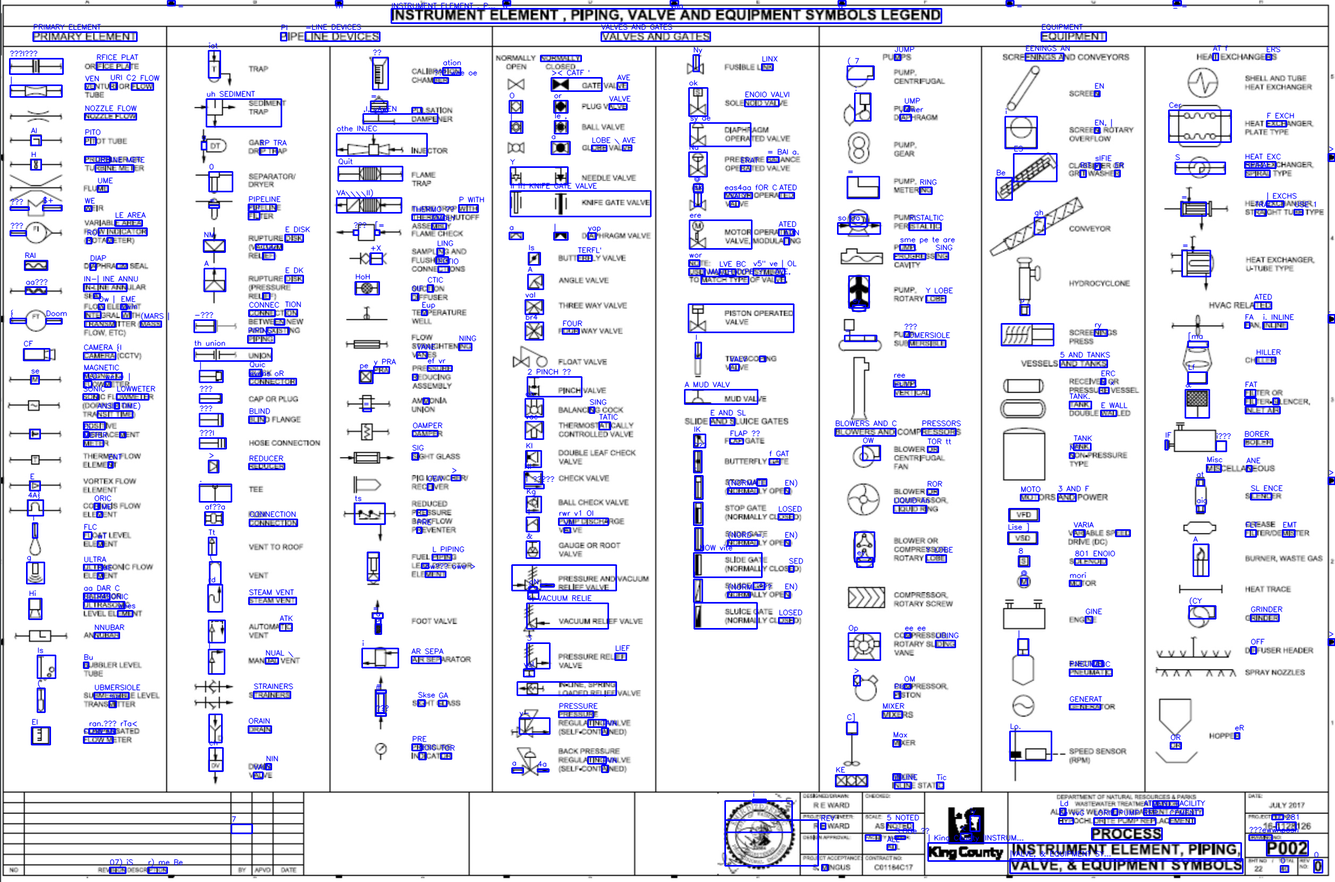Bomba: (838, 318, 884, 354), (835, 207, 883, 238), (849, 355, 871, 422), (840, 91, 876, 129), (847, 273, 872, 313), (838, 247, 886, 267), (846, 130, 872, 166), (846, 175, 881, 200), (845, 64, 876, 89)
Compressor: (844, 480, 882, 516), (846, 630, 881, 661), (852, 529, 877, 568), (848, 587, 886, 609), (852, 674, 880, 701)
HVAC: (1163, 421, 1229, 455), (1181, 340, 1214, 387), (1171, 312, 1226, 337), (1185, 389, 1209, 418)
Misturador: (841, 719, 862, 767), (833, 774, 868, 787)
Motor: (1000, 598, 1047, 630), (1016, 574, 1032, 589)
Outro: (988, 194, 1085, 259), (991, 150, 1060, 203), (1157, 635, 1233, 662), (1006, 64, 1041, 112), (7, 174, 63, 203), (1016, 255, 1042, 317), (8, 220, 65, 247), (1154, 663, 1239, 681), (999, 321, 1057, 347), (9, 306, 66, 332), (1158, 696, 1193, 738), (8, 54, 64, 78), (8, 496, 65, 519), (1003, 114, 1039, 149), (7, 108, 66, 126), (7, 198, 63, 216), (7, 475, 63, 493), (14, 628, 69, 646), (10, 83, 66, 100), (7, 156, 65, 172), (7, 426, 63, 442), (8, 133, 64, 148), (7, 282, 63, 297), (7, 371, 63, 386), (6, 397, 62, 412), (1153, 749, 1201, 766), (1185, 605, 1217, 629), (34, 651, 57, 684), (6, 452, 63, 465), (1192, 473, 1209, 516), (1191, 542, 1211, 576), (1177, 583, 1225, 597), (24, 561, 47, 586), (1180, 521, 1218, 536), (22, 345, 57, 361), (28, 522, 43, 557), (31, 725, 53, 746), (28, 597, 43, 621), (22, 260, 49, 270), (36, 686, 46, 713)
SistemadePotência: (1007, 725, 1068, 784), (1011, 637, 1036, 689), (1011, 693, 1036, 717), (1006, 506, 1040, 523), (1006, 530, 1040, 546), (1017, 555, 1030, 568)
Tanque: (1001, 426, 1047, 484), (998, 398, 1047, 420)
TrocadordeCalor: (1162, 185, 1230, 232), (1166, 103, 1234, 149), (1169, 234, 1218, 292), (1173, 155, 1227, 181), (1186, 66, 1219, 99)
Tubulação: (340, 499, 397, 541), (334, 131, 408, 158), (192, 95, 238, 130), (334, 163, 405, 183), (335, 222, 405, 242), (334, 196, 404, 215), (359, 94, 398, 128), (205, 48, 235, 89), (200, 223, 229, 265), (199, 126, 229, 165), (359, 645, 400, 673), (345, 419, 391, 443), (200, 266, 229, 304), (194, 170, 236, 196), (344, 393, 394, 414), (337, 449, 396, 466), (341, 304, 390, 324), (371, 674, 388, 730), (349, 471, 383, 496), (367, 54, 389, 91), (193, 198, 233, 218), (347, 249, 389, 268), (196, 482, 233, 502), (206, 747, 225, 784), (193, 679, 236, 695), (191, 349, 240, 363), (356, 364, 390, 384), (192, 320, 239, 334), (343, 337, 390, 351), (365, 549, 382, 587), (193, 696, 236, 711), (369, 598, 386, 635), (206, 713, 225, 743), (206, 584, 224, 614), (199, 435, 230, 452), (205, 560, 222, 588), (208, 647, 225, 673), (353, 279, 379, 296), (198, 369, 227, 384), (199, 411, 226, 426), (209, 619, 226, 642), (373, 740, 390, 760), (198, 391, 224, 404), (204, 512, 223, 525), (207, 457, 222, 473), (207, 537, 217, 555)
Vaso: (1001, 377, 1046, 394)
Ventilador: (844, 480, 882, 516), (852, 529, 877, 569), (850, 443, 883, 470)
Válvula: (510, 564, 555, 600), (506, 705, 551, 741), (508, 745, 552, 778), (521, 640, 553, 678), (521, 601, 551, 639), (510, 345, 551, 370), (687, 84, 711, 118), (687, 302, 708, 335), (687, 182, 708, 214), (687, 120, 709, 149), (682, 387, 715, 406), (687, 219, 707, 250), (687, 151, 709, 179), (685, 53, 705, 77), (692, 340, 704, 380), (552, 191, 570, 217), (507, 189, 524, 216), (524, 398, 545, 418), (516, 682, 546, 696), (523, 471, 545, 490), (551, 74, 571, 93), (524, 421, 544, 440), (525, 320, 543, 341), (524, 449, 541, 471), (507, 163, 523, 186), (506, 74, 526, 92), (552, 164, 569, 185), (506, 141, 529, 156), (551, 97, 570, 115), (551, 140, 570, 157), (525, 298, 545, 314), (527, 376, 542, 397), (528, 273, 546, 290), (525, 495, 542, 513), (691, 449, 703, 474), (694, 527, 706, 552), (525, 541, 541, 559), (693, 500, 704, 525), (693, 578, 704, 603), (553, 119, 570, 135), (694, 551, 704, 578), (508, 120, 527, 134), (694, 603, 704, 629), (525, 251, 542, 266), (692, 432, 706, 449), (509, 98, 523, 114), (694, 475, 703, 499), (525, 518, 539, 533), (552, 230, 569, 241), (508, 230, 523, 240)
